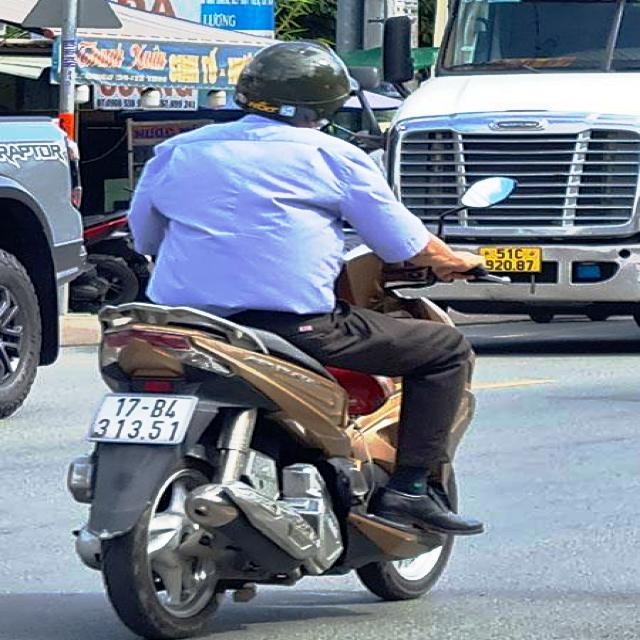license_plate: (90, 395, 199, 444), (480, 246, 540, 272)
